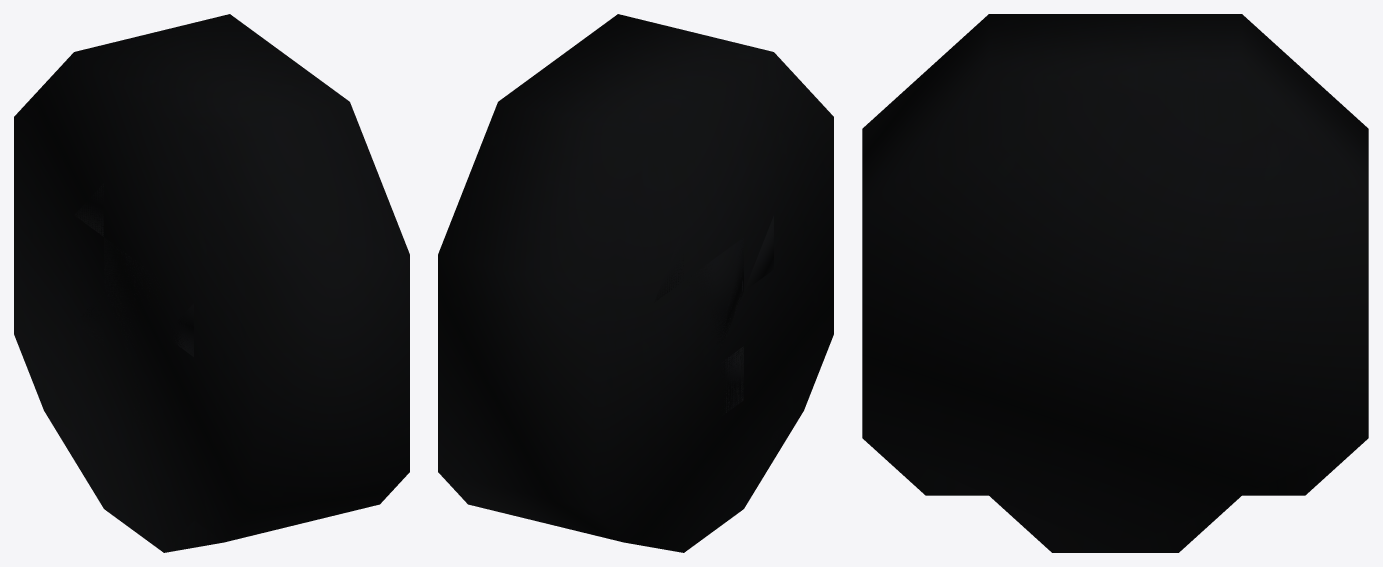
The picture shows the model from 3 angles, left to right: view 1: azimuth 30°, elevation 25°; view 2: azimuth 150°, elevation 25°; view 3: azimuth 270°, elevation 25°; orthographic projection. The views are drawn at different scales.
Size of the model in its own units: 0.24 by 0.64 by 0.64.
Materials: 1 (1 with a texture image).
